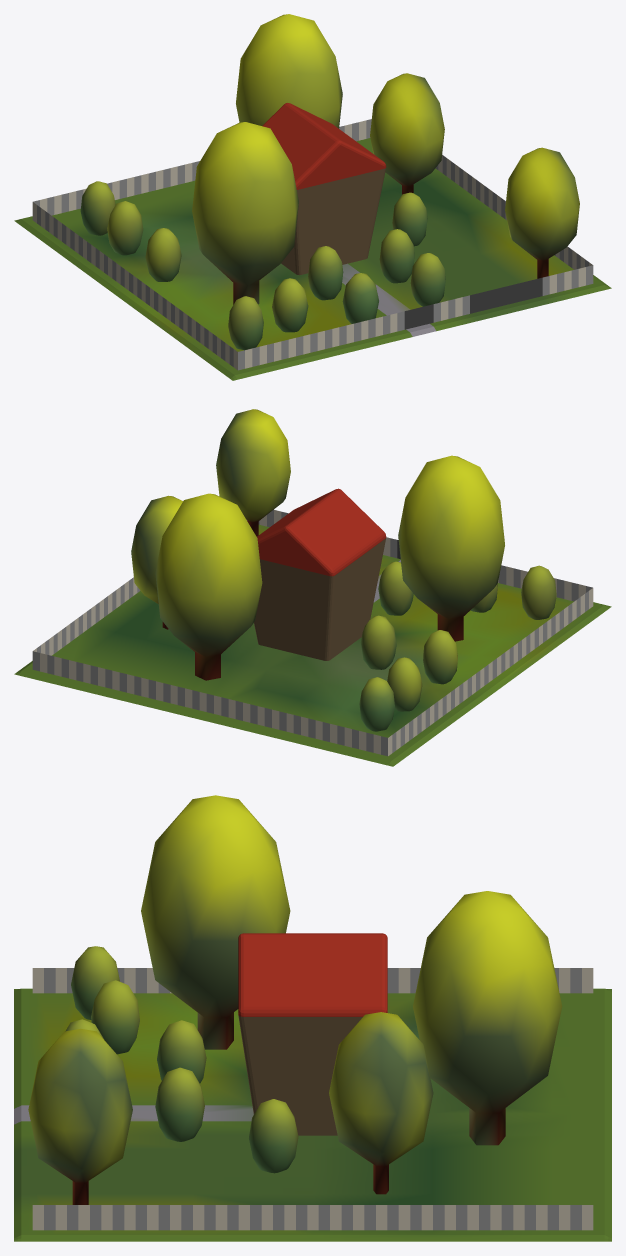
File: SM_Building_House_2.glb
The picture shows the model from 3 angles, top to bottom: view 1: azimuth 30°, elevation 25°; view 2: azimuth 150°, elevation 25°; view 3: azimuth 270°, elevation 25°; orthographic projection. The views are drawn at different scales.
Parts seen in each view (by area): view 1: SM_Building_House_2; view 2: SM_Building_House_2; view 3: SM_Building_House_2.
Boxes of the visible parts, x1,y1,x2,y2 form: SM_Building_House_2: [14, 14, 611, 380]; SM_Building_House_2: [14, 409, 611, 766]; SM_Building_House_2: [14, 795, 611, 1241].
Bounding box in the file's own units: 8 × 3.73 × 8.
